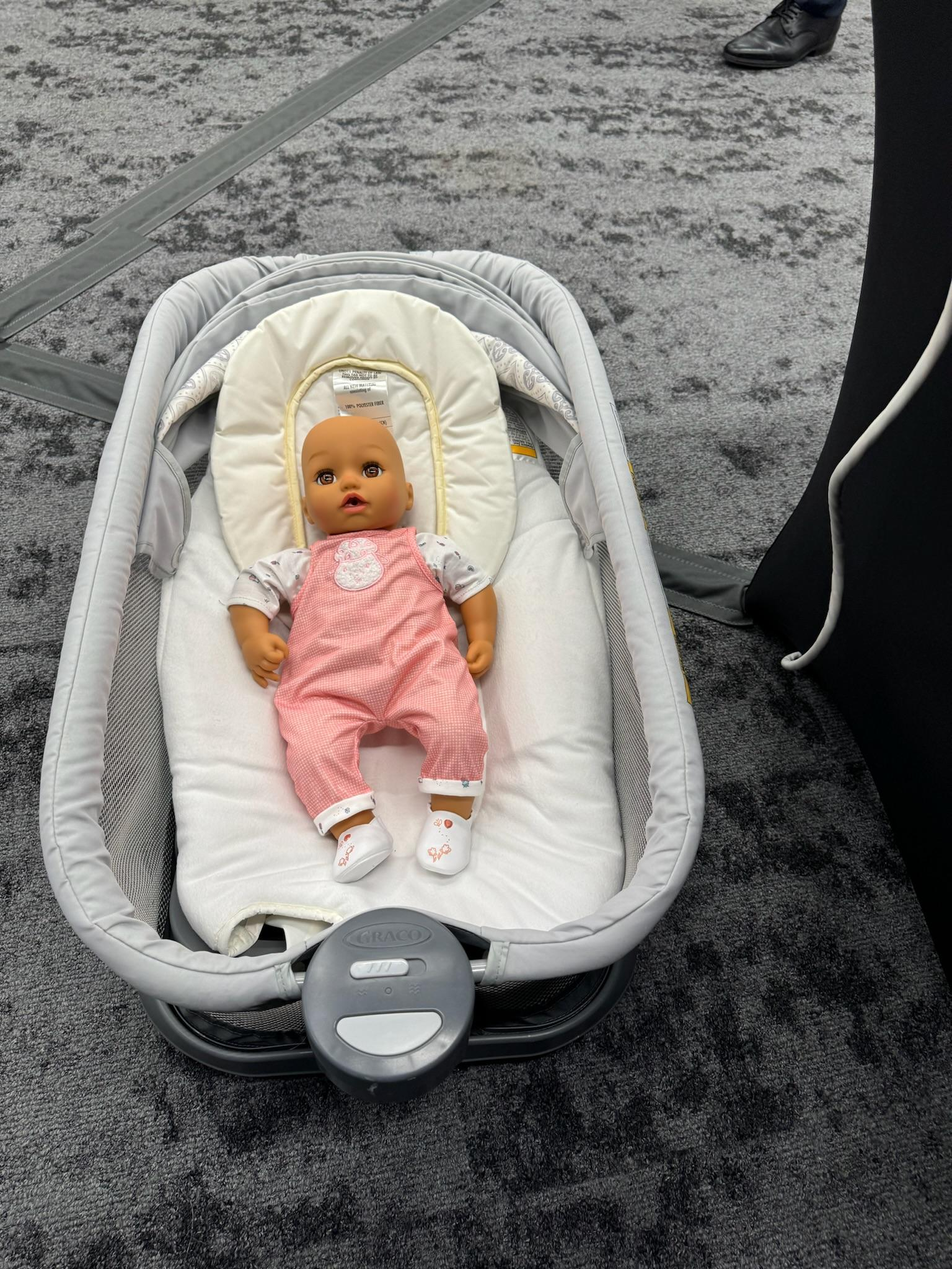baby: (224, 404, 530, 886)
